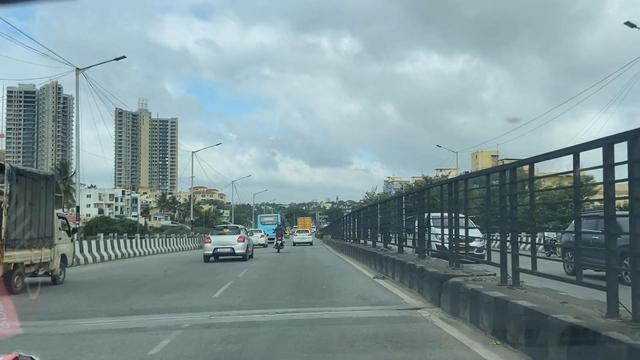HMV: (0, 158, 118, 297), (253, 203, 288, 253)
LMV: (202, 210, 255, 267), (269, 208, 296, 262), (288, 220, 320, 252), (246, 228, 270, 249)
